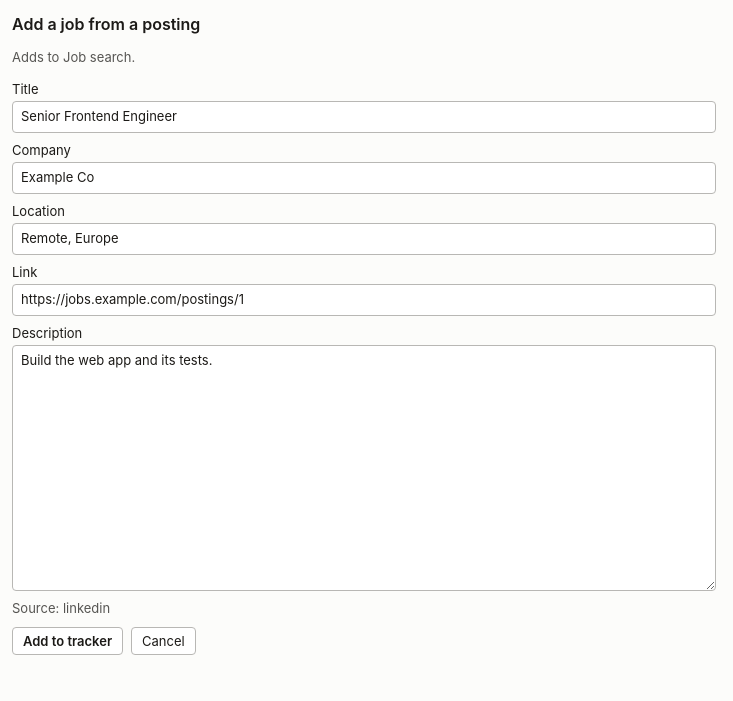
Scenario: a duplicate shows the server's message and keeps the form
Click the button "Add to tracker": [68, 640] box [12, 626, 123, 654]
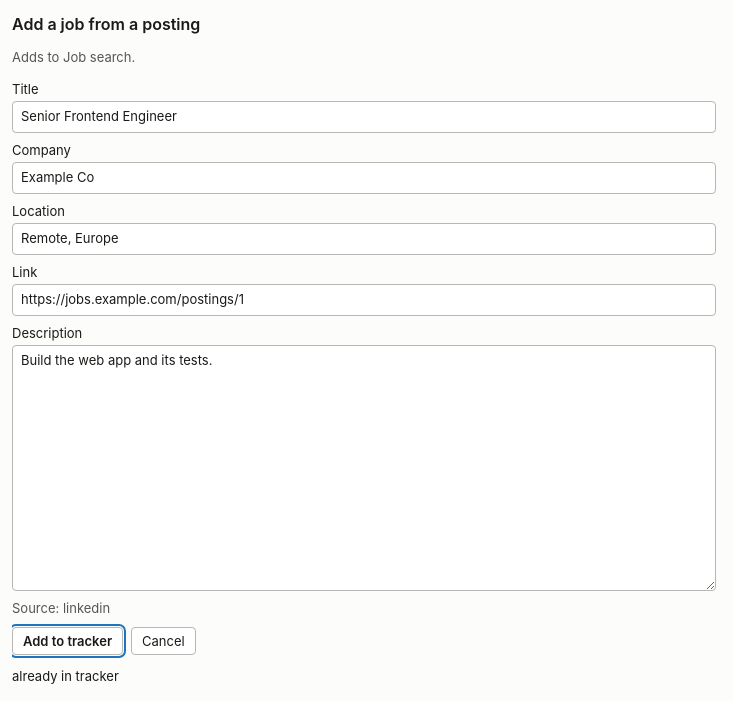
Expected: the field labelled "Title" holds "Senior Frontend Engineer", [12, 101, 716, 132]
Expected: the message reads "already in tracker", [12, 668, 119, 684]
